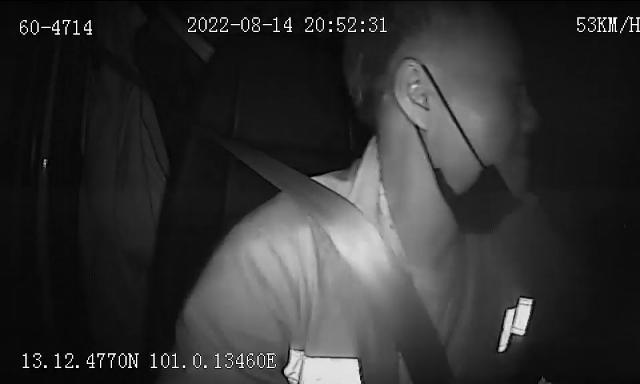Seatbelt: (233, 148, 452, 384)
